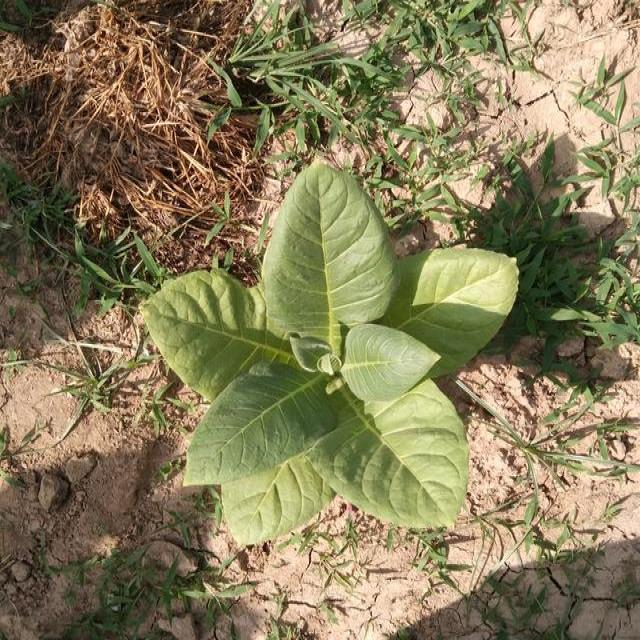crop: (129, 157, 520, 543)
